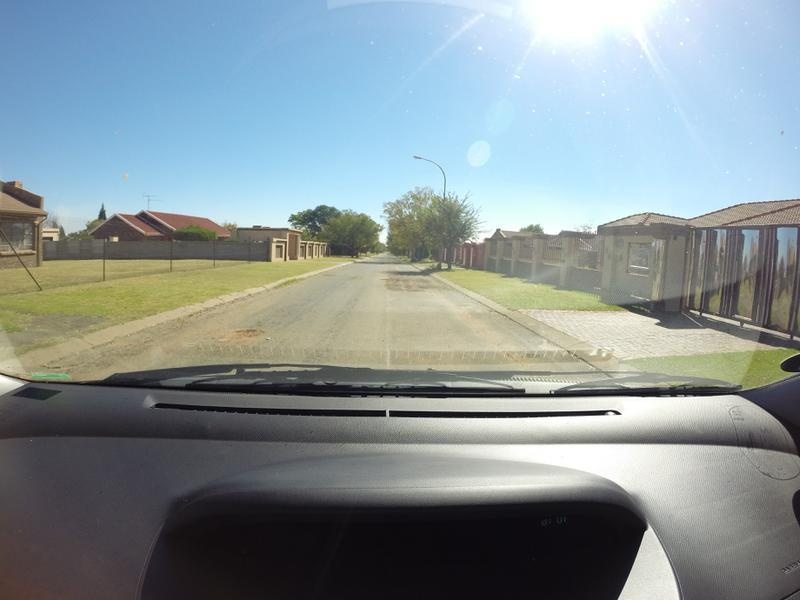pothole: (210, 322, 267, 350)
